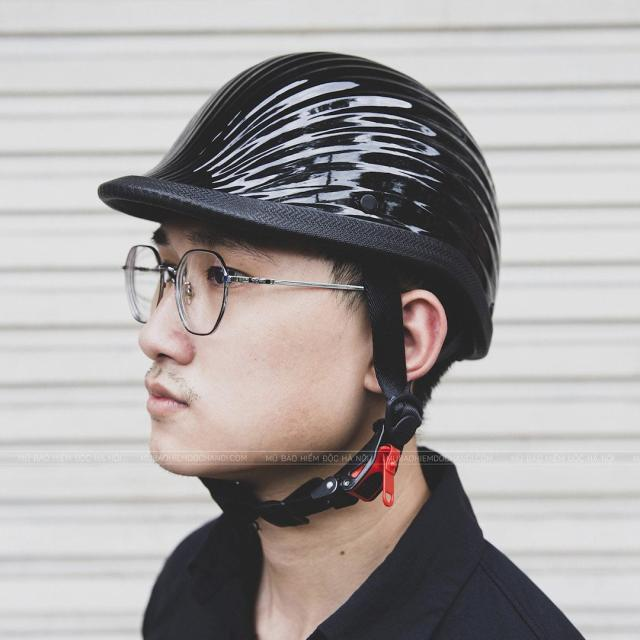helmet: (96, 51, 499, 359)
